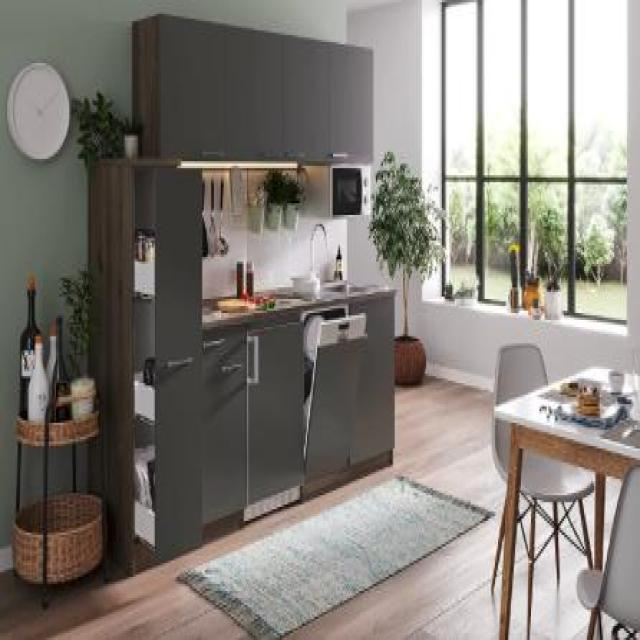dishwasher: (298, 296, 366, 476)
